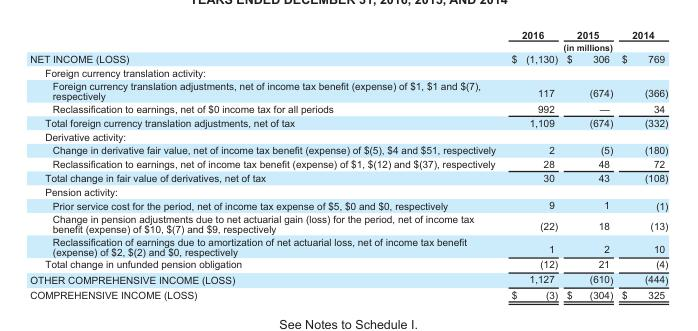table: (29, 28, 667, 299)
table column: (29, 28, 502, 299), (502, 28, 561, 299), (561, 28, 616, 299), (616, 28, 667, 299)
table column header: (29, 28, 667, 52)
table projected row header: (29, 65, 667, 79), (29, 184, 667, 198), (29, 129, 667, 142)
table row: (29, 211, 667, 235), (29, 79, 667, 102), (29, 235, 667, 257), (29, 271, 667, 286), (29, 65, 667, 79), (29, 115, 667, 129), (29, 142, 667, 156), (29, 156, 667, 170), (29, 170, 667, 184), (29, 184, 667, 198), (29, 257, 667, 271), (29, 52, 667, 65), (29, 102, 667, 115), (29, 129, 667, 142), (29, 198, 667, 211), (29, 286, 667, 299), (29, 28, 667, 40), (29, 40, 667, 52)
table spanning cell: (502, 40, 667, 52)
